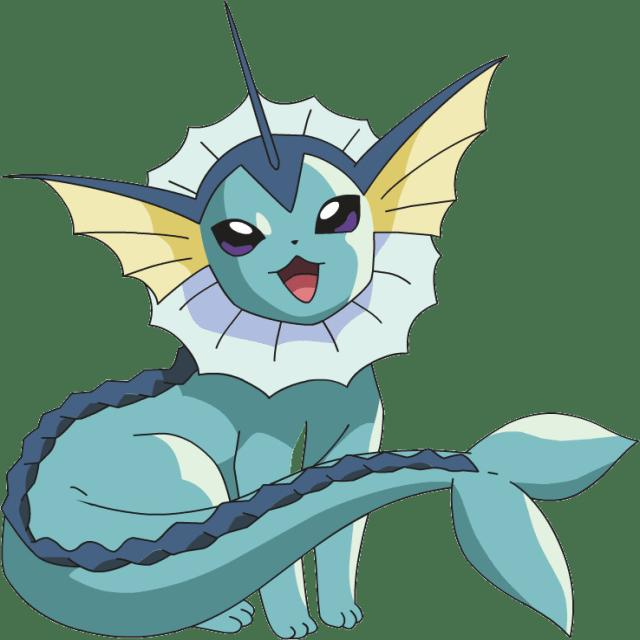Vaporeon: (103, 110, 460, 542)
